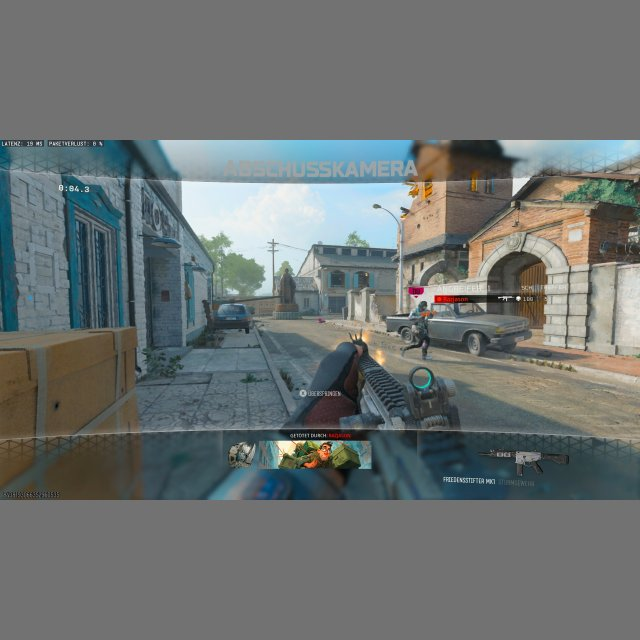head: (419, 300, 427, 310)
player: (399, 300, 435, 361)
